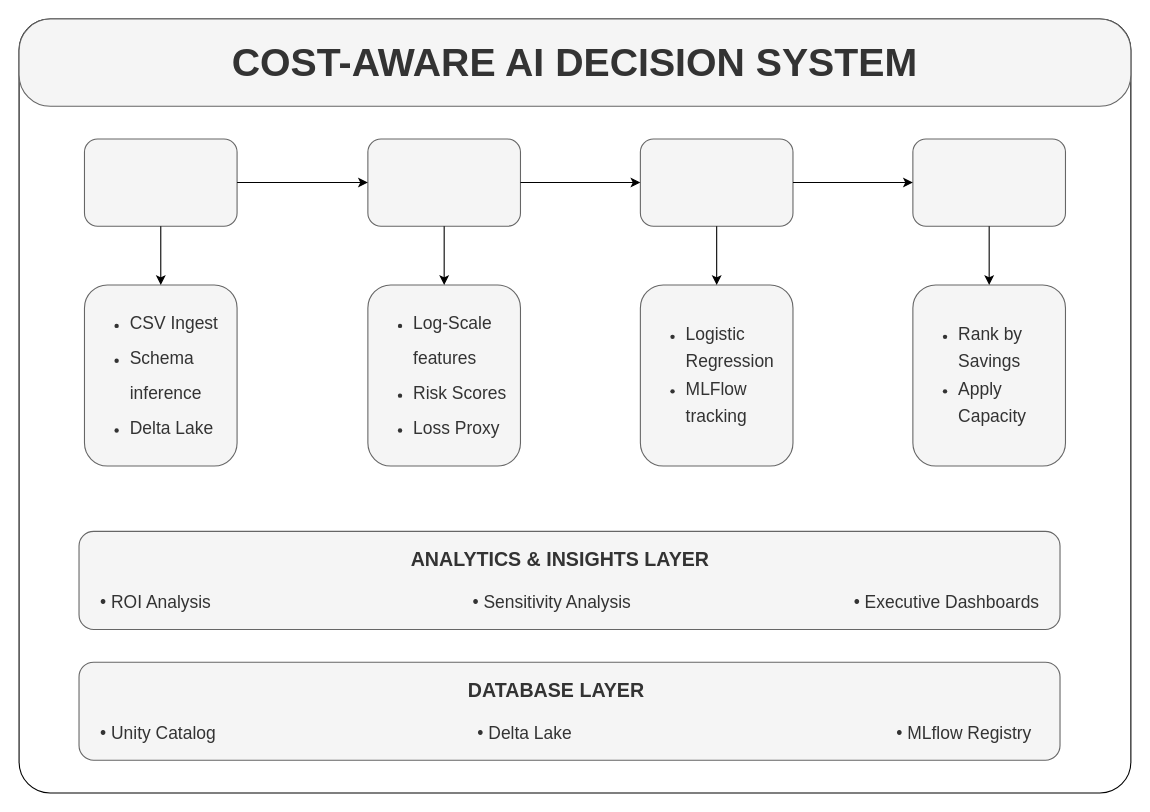
Image size: 1150x812. Some labels were removed from this diagram. The shapes that lost their labels are listed below. From the top down, each one's box as (x1, y1, x2, y2) in pixels, then its label:
(83, 138, 237, 226): BRONZE Raw Data
(367, 138, 520, 226): SILVER Features
(639, 138, 793, 226): ML Prediction
(912, 138, 1065, 226): GOLD Decisions
